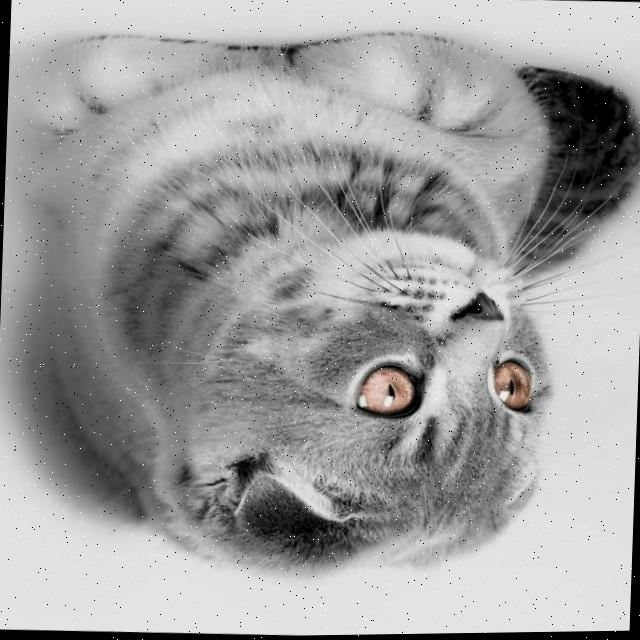Scottish Fold: (16, 16, 640, 602)
